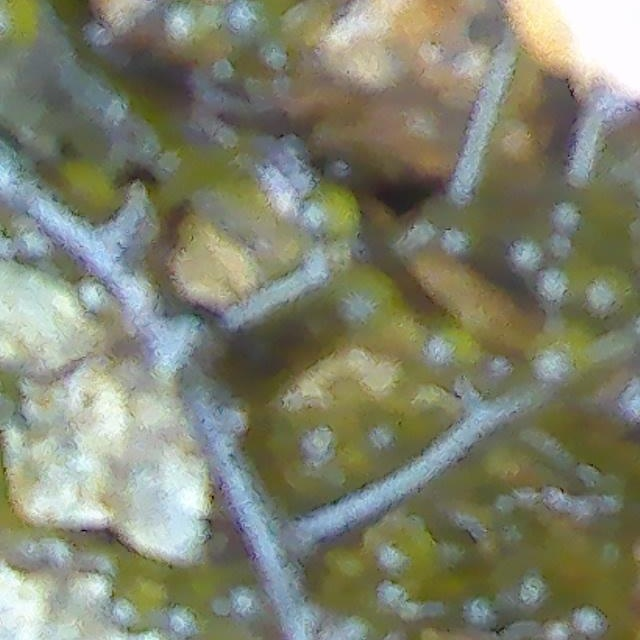SeaGrape: (298, 186, 356, 245)
